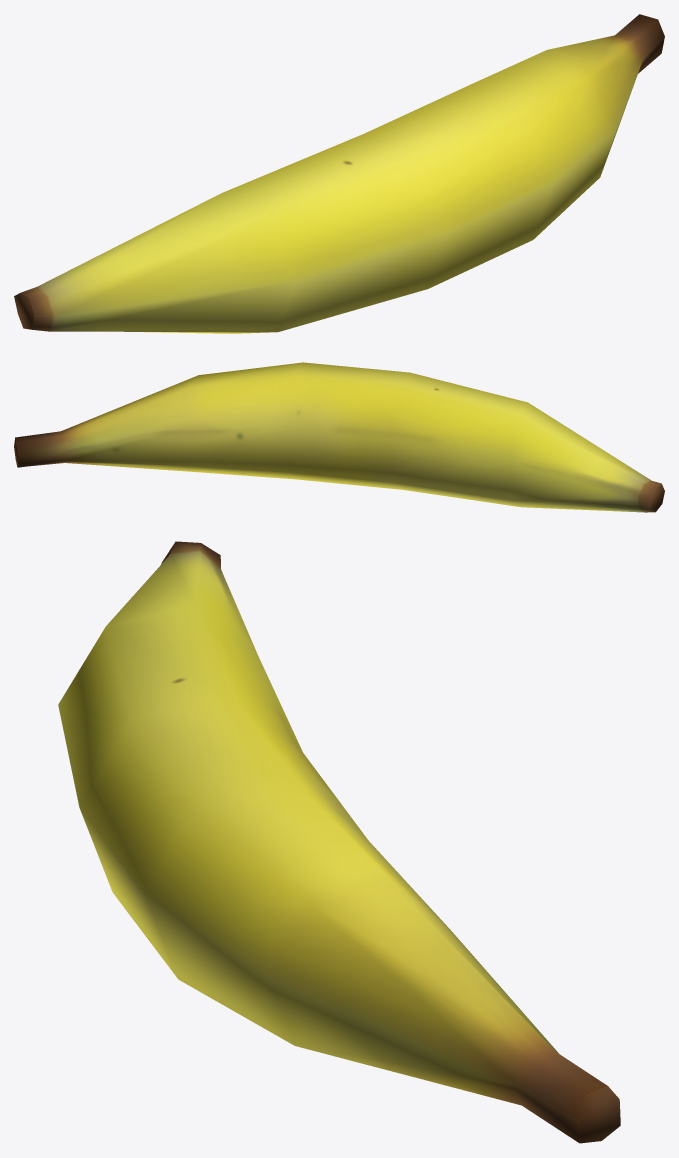
File: banana.fbx
The picture shows the model from 3 angles, top to bottom: view 1: azimuth 30°, elevation 25°; view 2: azimuth 150°, elevation 25°; view 3: azimuth 270°, elevation 25°; orthographic projection. The views are drawn at different scales.
Parts seen in each view (by area): view 1: Banana.000; view 2: Banana.000; view 3: Banana.000.
Part boxes in pixels (x1=…): Banana.000: x1=14, y1=14, x2=664, y2=333; Banana.000: x1=14, y1=362, x2=664, y2=512; Banana.000: x1=58, y1=541, x2=620, y2=1143.
Bounding box in the file's own units: 22.85 × 4.25 × 10.17.
